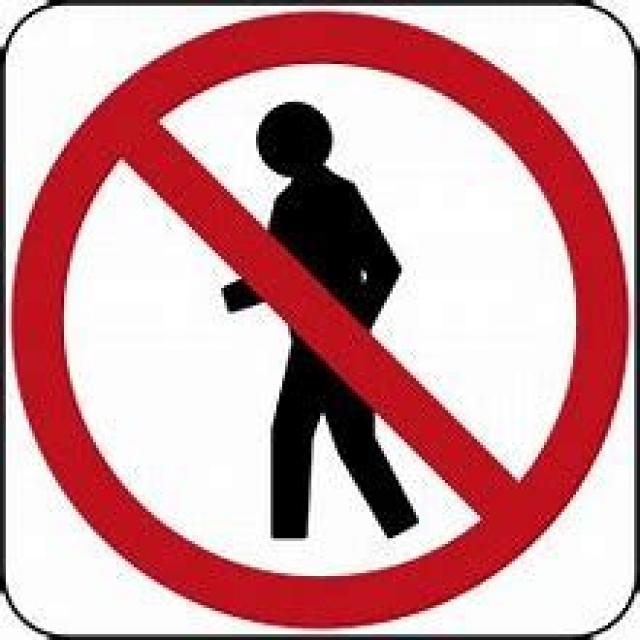PEDESTRIAN_PROHIBITED: (9, 6, 628, 625)
